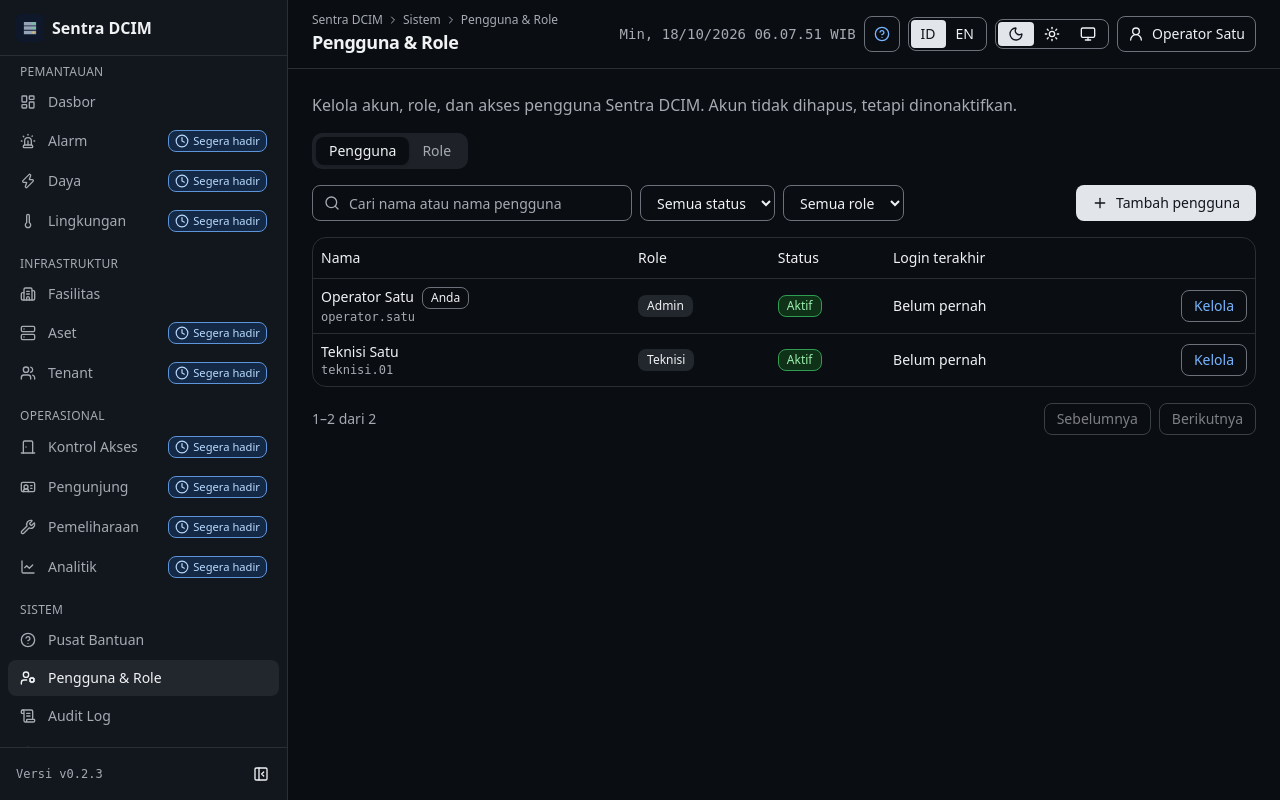
Scenario: users & roles › shows field messages for server validation errors
Click the button with test id "add-user" at (1166, 203), box [1076,185,1256,221]
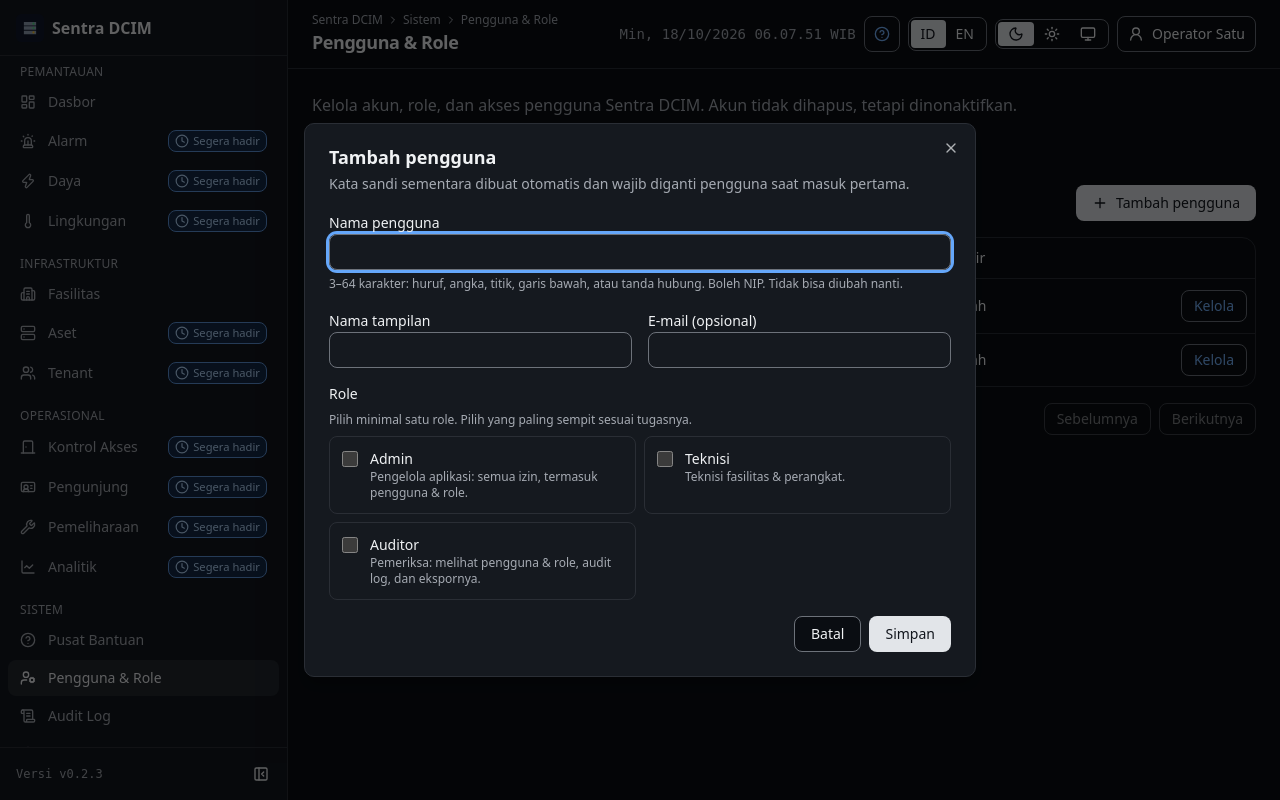
Type "teknisi.01" into the field labelled "Nama pengguna" at (640, 252), box [329,234,951,270]
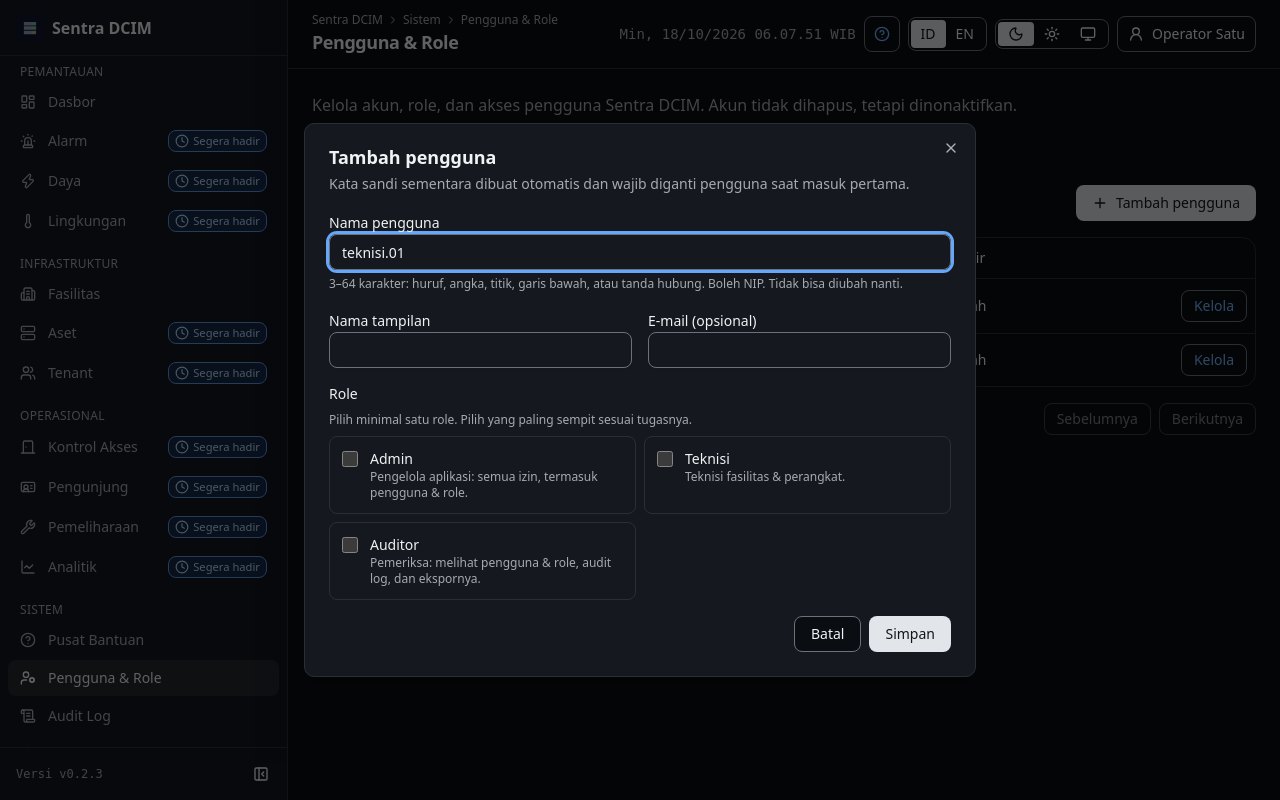
Type "x" into the field labelled "Nama tampilan" at (480, 350), box [329,332,632,368]
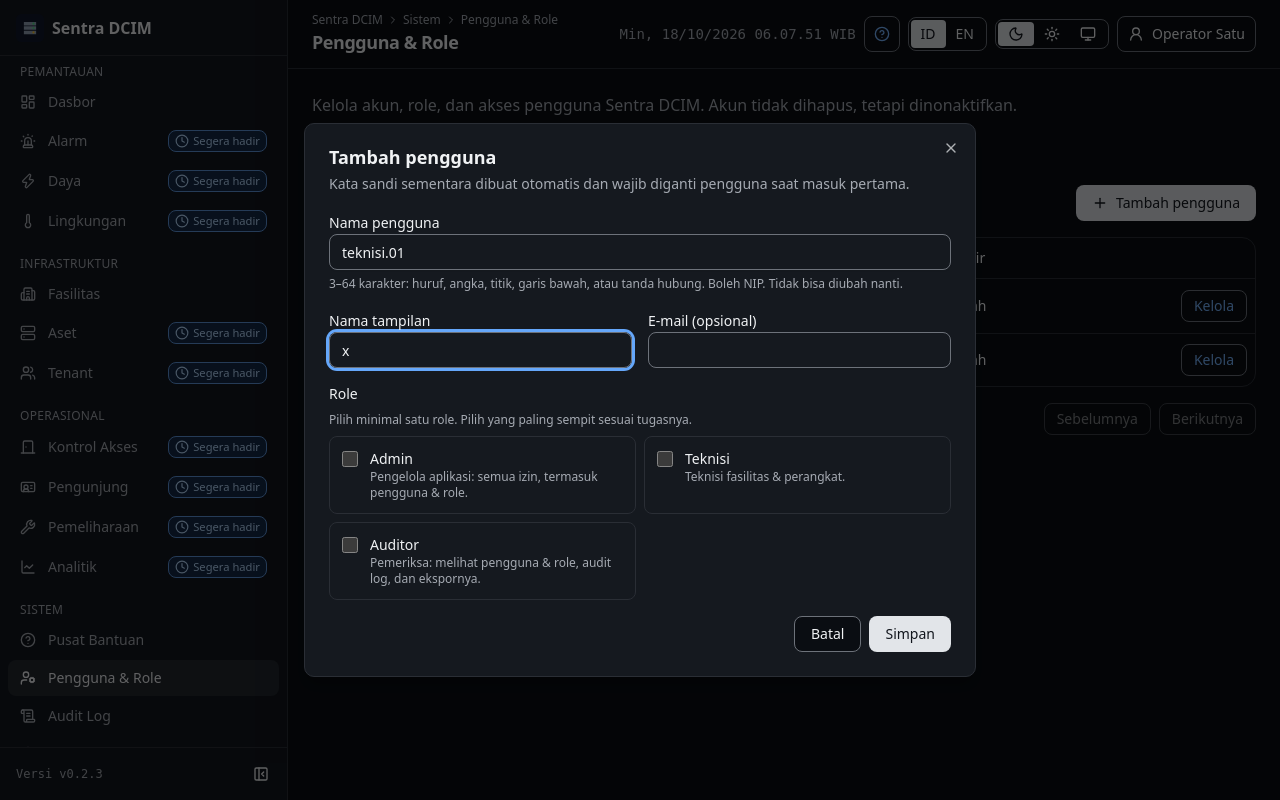
Click the checkbox labelled "Teknisi Teknisi fasilitas & perangkat." at (665, 459), box [657,451,673,467]
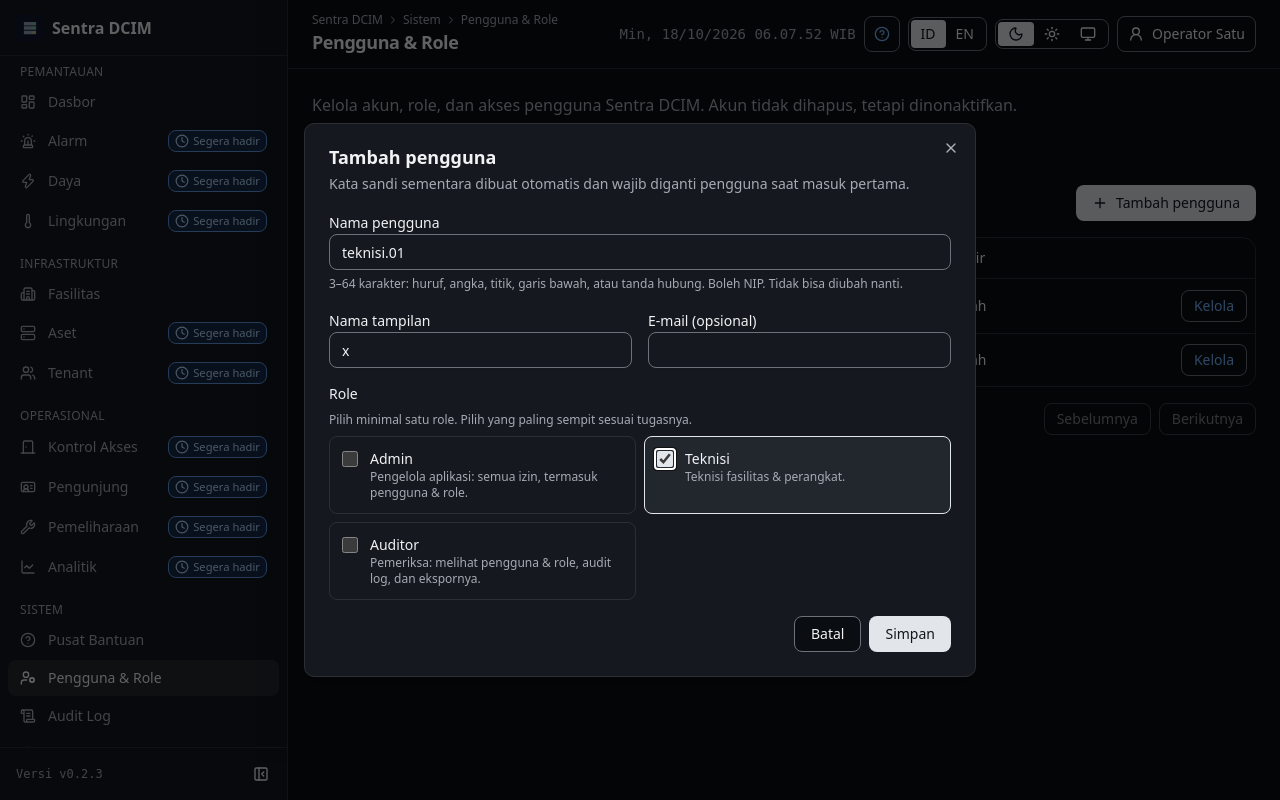
Click the button "Simpan" at (910, 634), box [870,616,951,652]
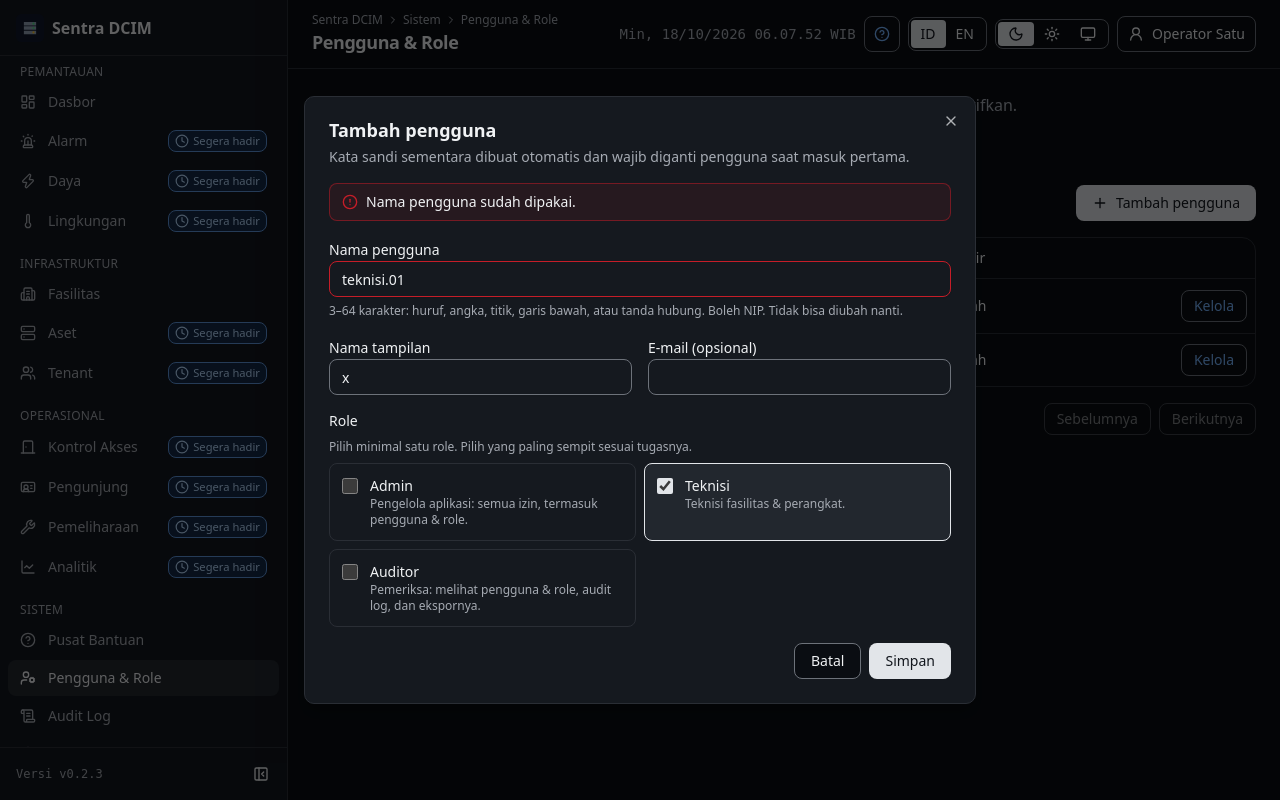
Check: the message reads "Nama pengguna sudah dipakai.", box [366,192,576,211]
